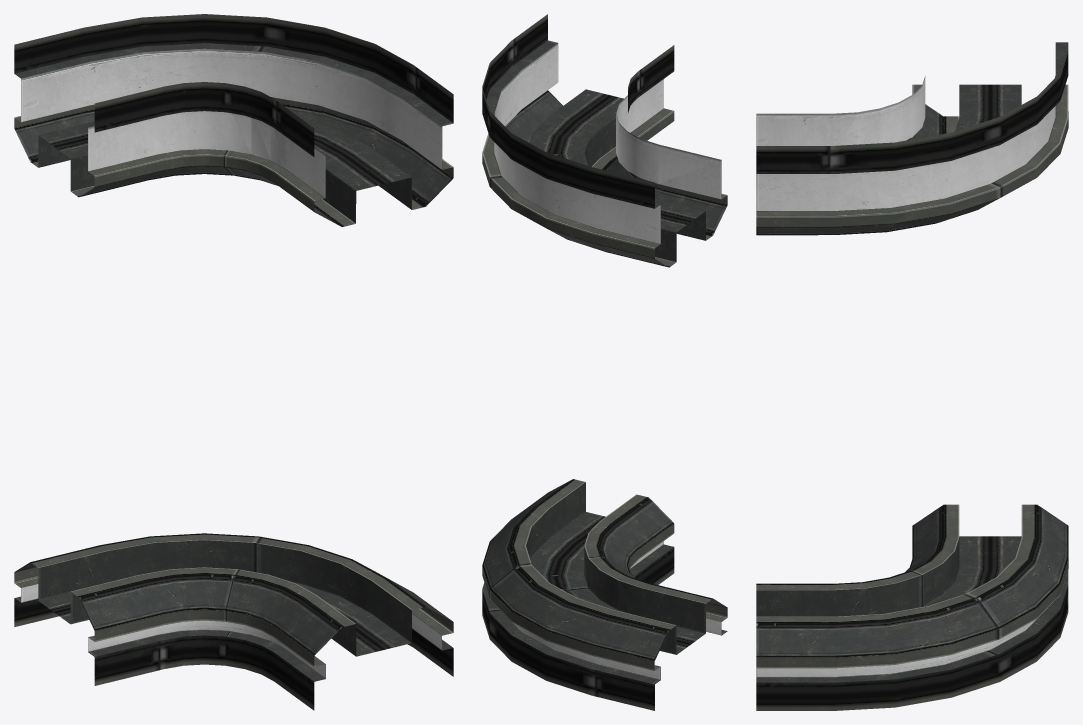
File: Neon_WindowFrameBend.FBX
The picture shows the model from 3 angles, left to right: view 1: azimuth 30°, elevation 25°; view 2: azimuth 150°, elevation 25°; view 3: azimuth 270°, elevation 25°; orthographic projection. The views are drawn at different scales.
Visible parts, largest first — view 1: Neon_WindowFrameBend; view 2: Neon_WindowFrameBend; view 3: Neon_WindowFrameBend.
Part boxes in pixels (box(x1,y1,x2,y2)): Neon_WindowFrameBend: box(14, 14, 453, 710); Neon_WindowFrameBend: box(482, 14, 727, 710); Neon_WindowFrameBend: box(756, 42, 1068, 710).
Bounding box in the file's own units: 2 × 4 × 2.
